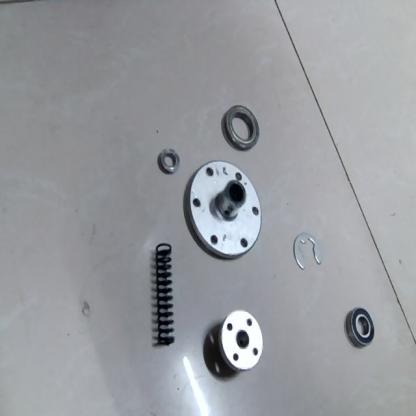FOD: (184, 160, 268, 260), (216, 309, 264, 375), (150, 240, 177, 354), (222, 103, 261, 154), (346, 304, 376, 348), (293, 228, 323, 270), (156, 146, 182, 178)
